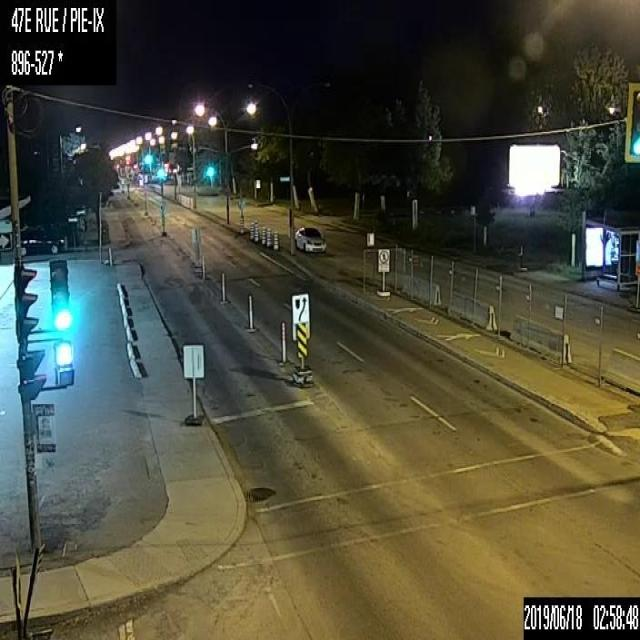construction: (278, 320, 286, 364), (247, 292, 253, 332), (220, 270, 226, 303), (199, 253, 205, 279), (266, 226, 271, 245), (239, 216, 244, 234), (254, 218, 258, 240), (249, 220, 253, 239), (261, 225, 265, 244), (273, 230, 277, 247)
vehicle: (20, 224, 66, 255), (294, 225, 326, 252)
